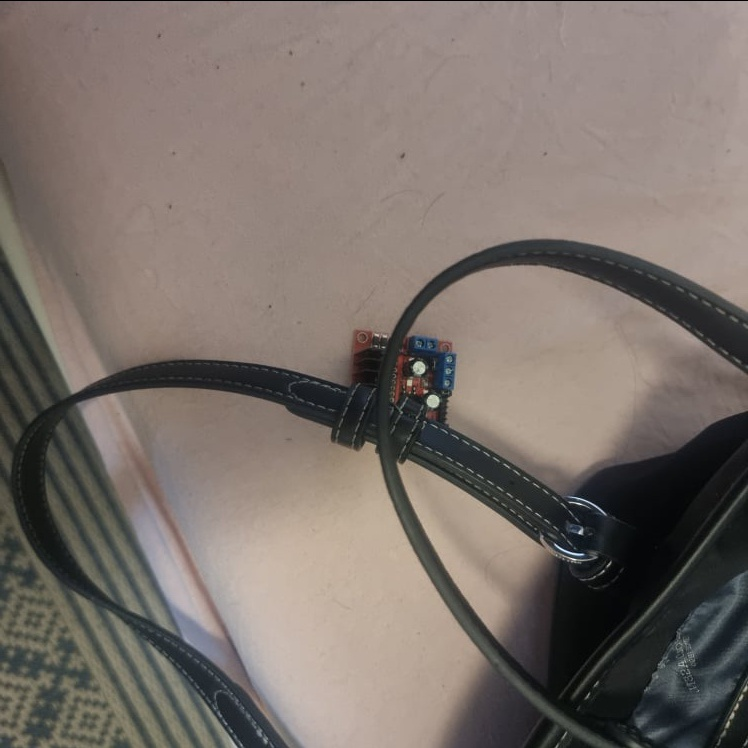MOTOR: (349, 329, 457, 431)
